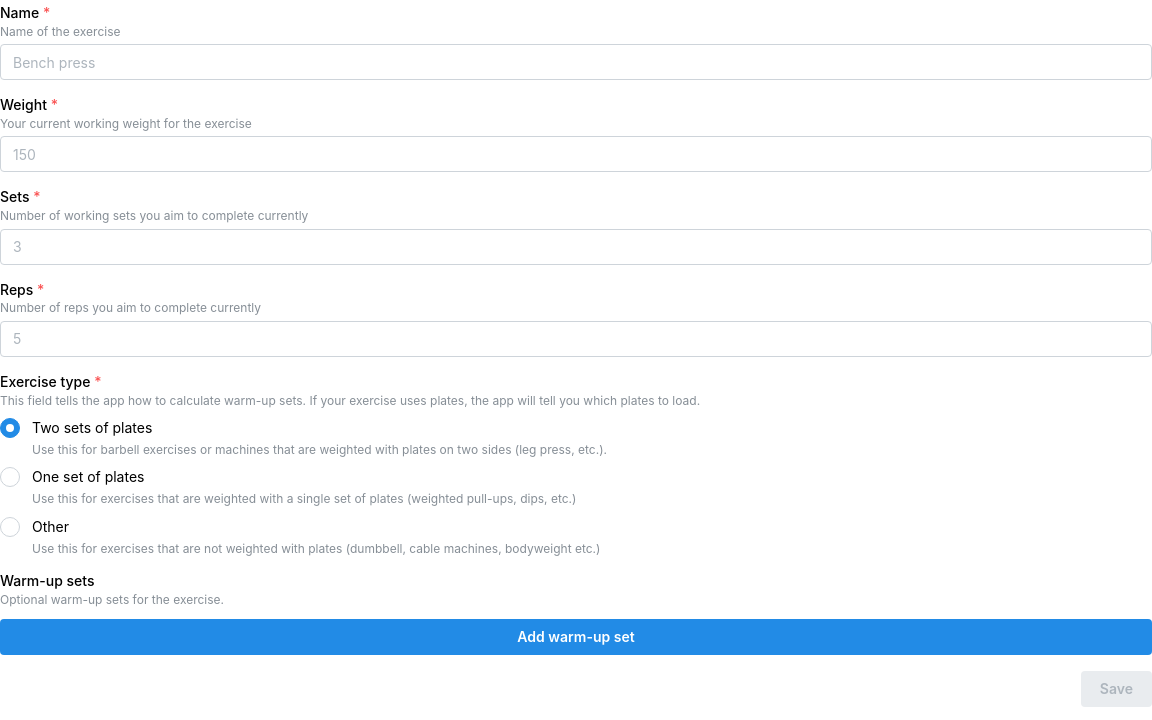
ExerciseForm › warm-up set management › opens the create modal when Add warm-up set is clicked
Click the button "Add warm-up set" at (576, 637), box [0,619,1151,655]
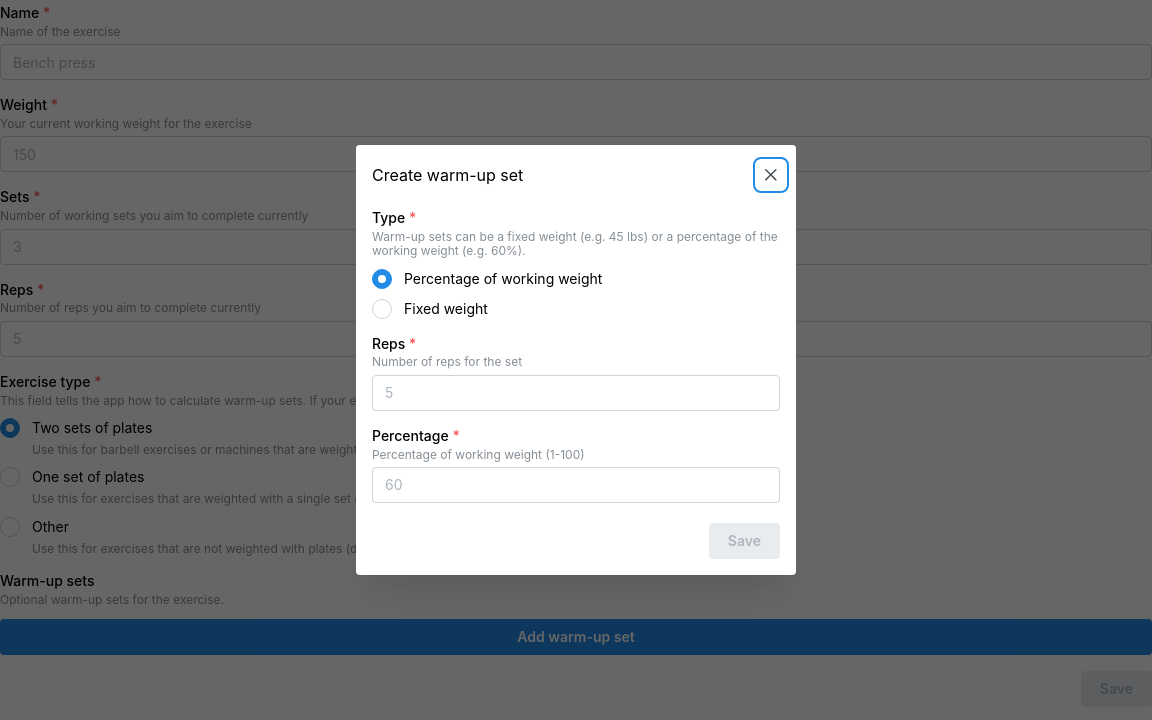
Expected: the heading "Create warm-up set" is shown, [372,167,523,183]
